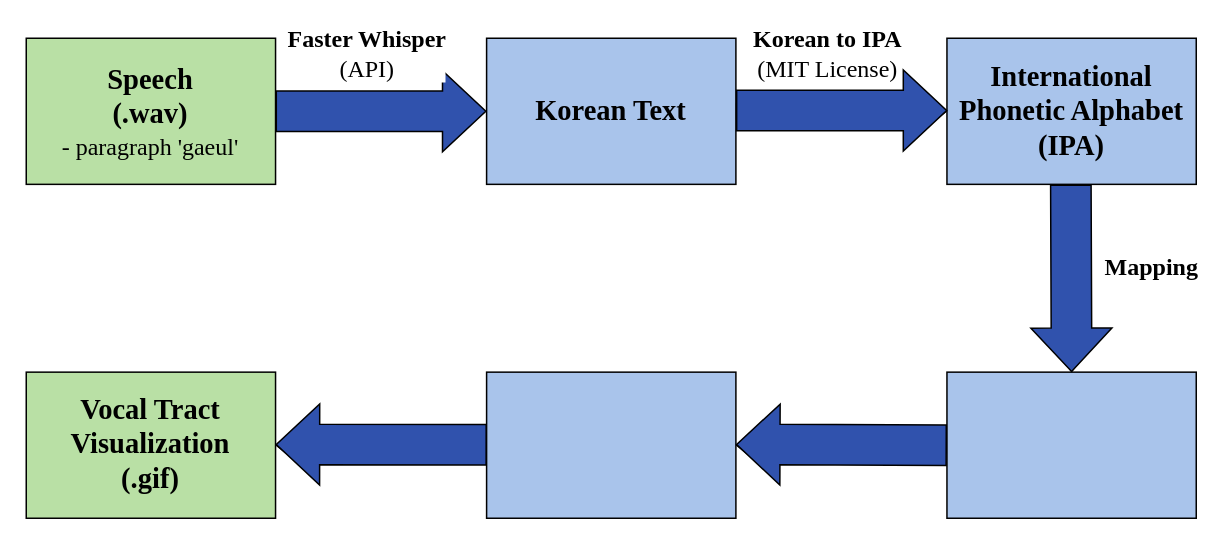
Image size: 1224x546. Some labels were removed from this diagram. Here are the shapes that lost their labels. From the top down, the centre of each, then its label:
the point at 610,444: Extended Vocal Tract Lab
the point at 1070,444: Speech Assessment Methods Phonetic Alphabet (SAMPA)
